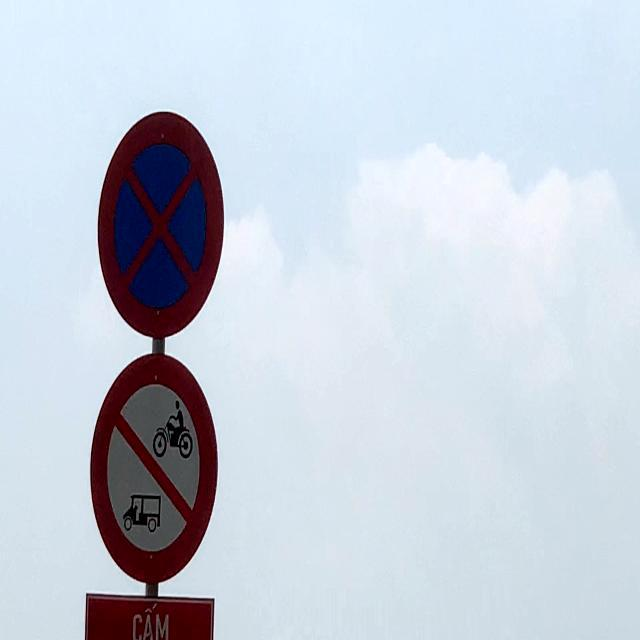Cam dung xe va do xe: (98, 112, 225, 338)
